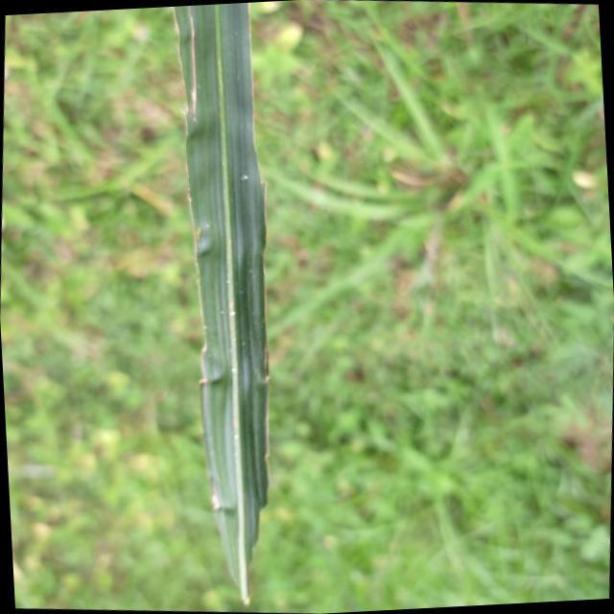Boron: (174, 0, 275, 603)
